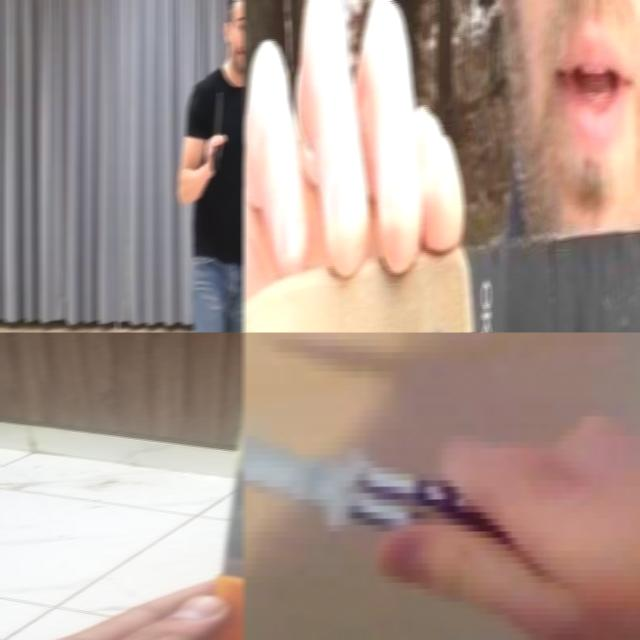Knife: (242, 232, 640, 332)
Knife_Handle: (242, 406, 640, 640), (0, 377, 244, 640), (205, 92, 226, 176)
